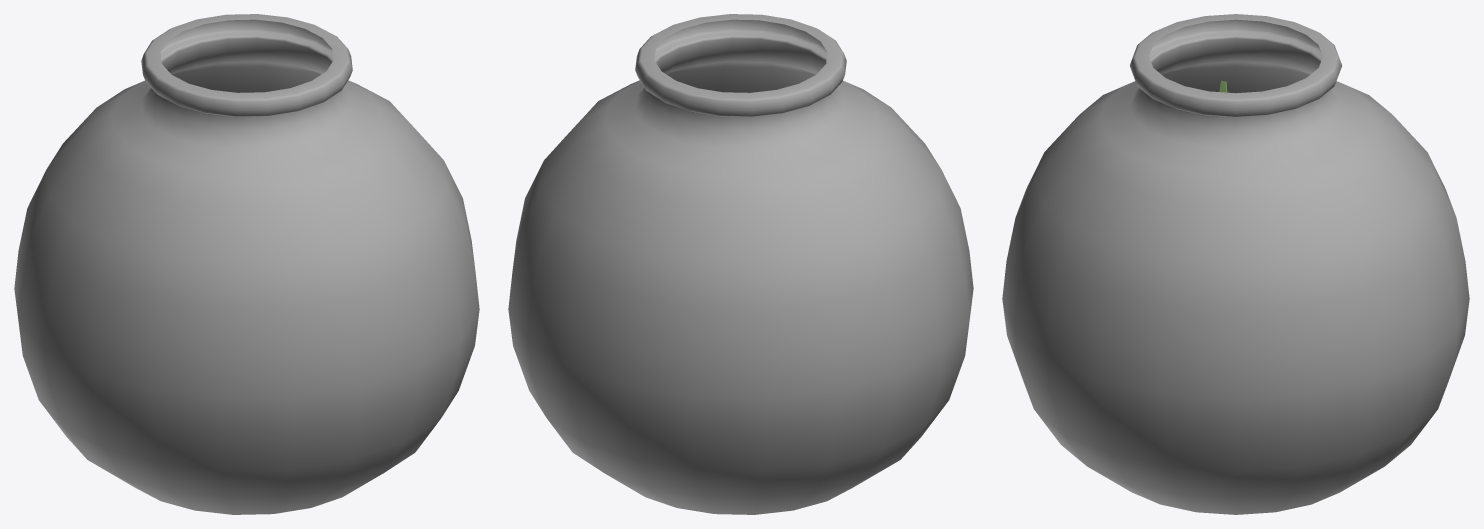
File: fishbowl_updated.fbx
The picture shows the model from 3 angles, left to right: view 1: azimuth 30°, elevation 25°; view 2: azimuth 150°, elevation 25°; view 3: azimuth 270°, elevation 25°; orthographic projection.
Parts seen in each view (by area): view 1: Bowl; view 2: Bowl; view 3: Bowl.
Boxes of the visible parts, x1=… form: Bowl: x1=14, y1=14, x2=479, y2=514; Bowl: x1=508, y1=14, x2=973, y2=514; Bowl: x1=1002, y1=14, x2=1469, y2=514.
Size of the model in its own units: 3.93 by 3.84 by 3.93.
